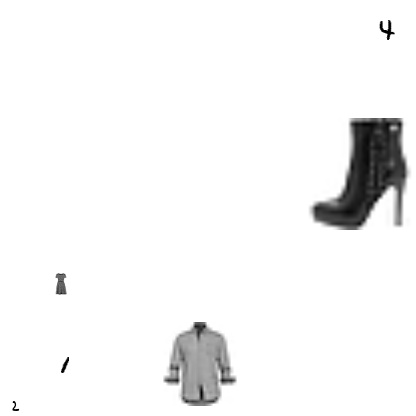1: (54, 354, 76, 376)
2: (8, 400, 22, 414)
4: (372, 15, 400, 43)
Ankle_boot: (302, 118, 414, 230)
Dress: (50, 273, 72, 295)
Shirt: (158, 322, 242, 406)
